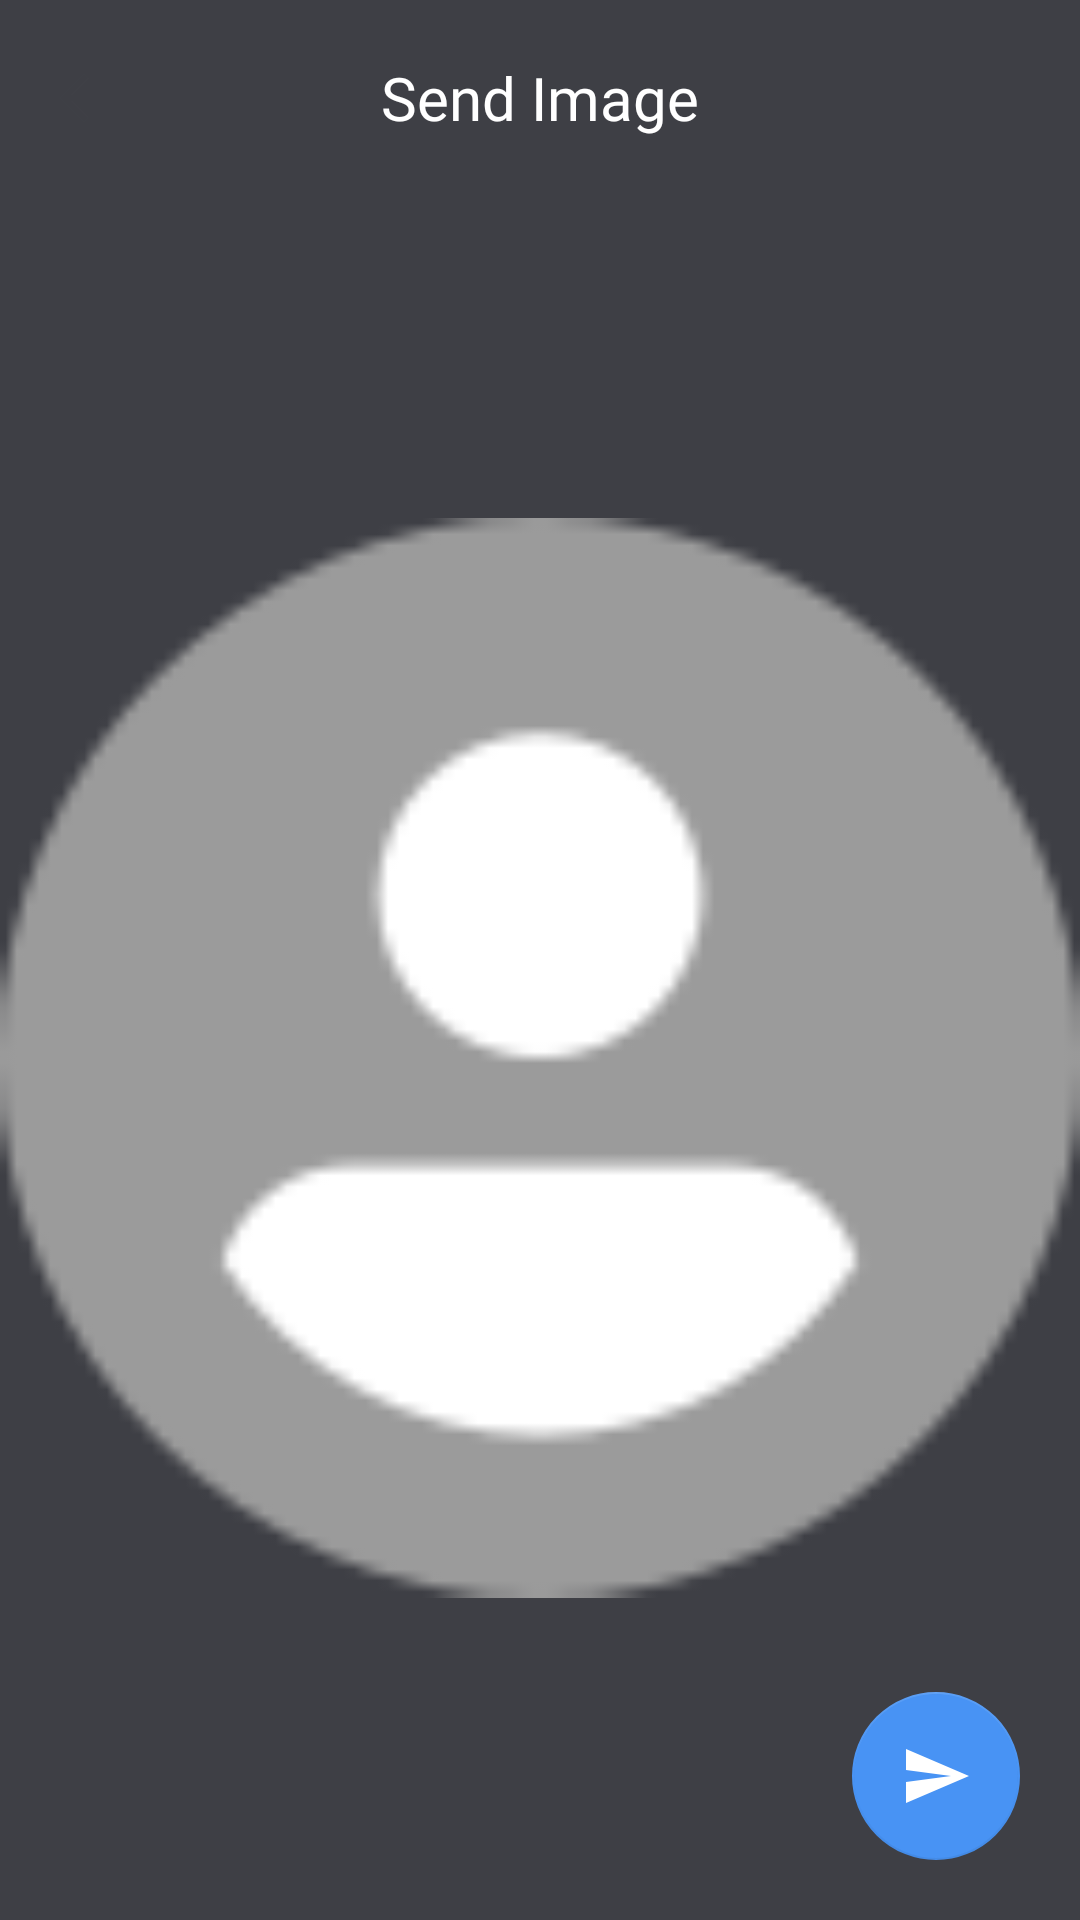

Icons on this 1080*1920 Android screen, each with the point to tap as [x,y]:
send: [936,1776]
